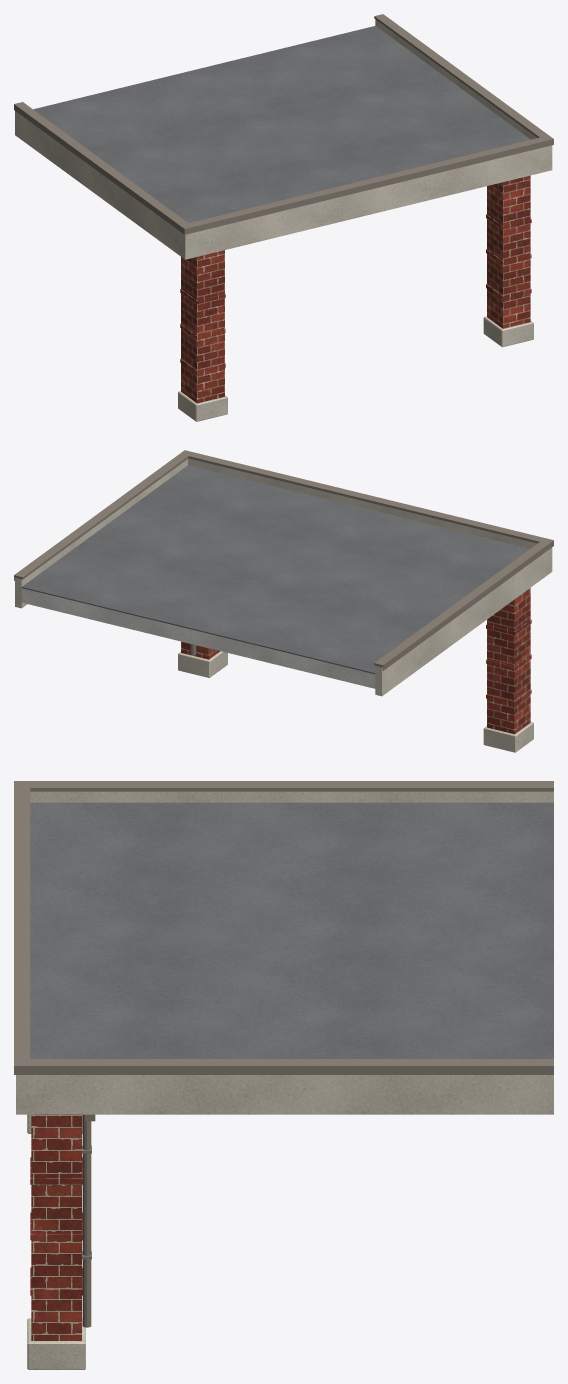
File: canopy.glb
The picture shows the model from 3 angles, top to bottom: view 1: azimuth 30°, elevation 25°; view 2: azimuth 150°, elevation 25°; view 3: azimuth 270°, elevation 25°; orthographic projection. The views are drawn at different scales.
Visible parts, largest first — view 1: canopy_membrane, canopy_precast, canopy_brick, canopy_alu; view 2: canopy_membrane, canopy_precast, canopy_alu, canopy_brick, canopy_plaster; view 3: canopy_membrane, canopy_precast, canopy_alu, canopy_brick.
Part boxes in pixels (x1,y1,x2,y2): canopy_membrane: [33, 26, 530, 222]; canopy_precast: [15, 19, 552, 421]; canopy_brick: [180, 175, 531, 403]; canopy_alu: [14, 14, 553, 234]; canopy_membrane: [21, 465, 529, 674]; canopy_precast: [15, 458, 552, 752]; canopy_alu: [14, 450, 553, 670]; canopy_brick: [181, 588, 531, 734]; canopy_plaster: [21, 588, 375, 688]; canopy_membrane: [30, 802, 553, 1058]; canopy_precast: [16, 791, 553, 1369]; canopy_alu: [14, 781, 553, 1327]; canopy_brick: [30, 1114, 82, 1340].
Size of the model in its own units: 6.64 by 3.44 by 5.32.
Materials: 7 (4 with a texture image).
